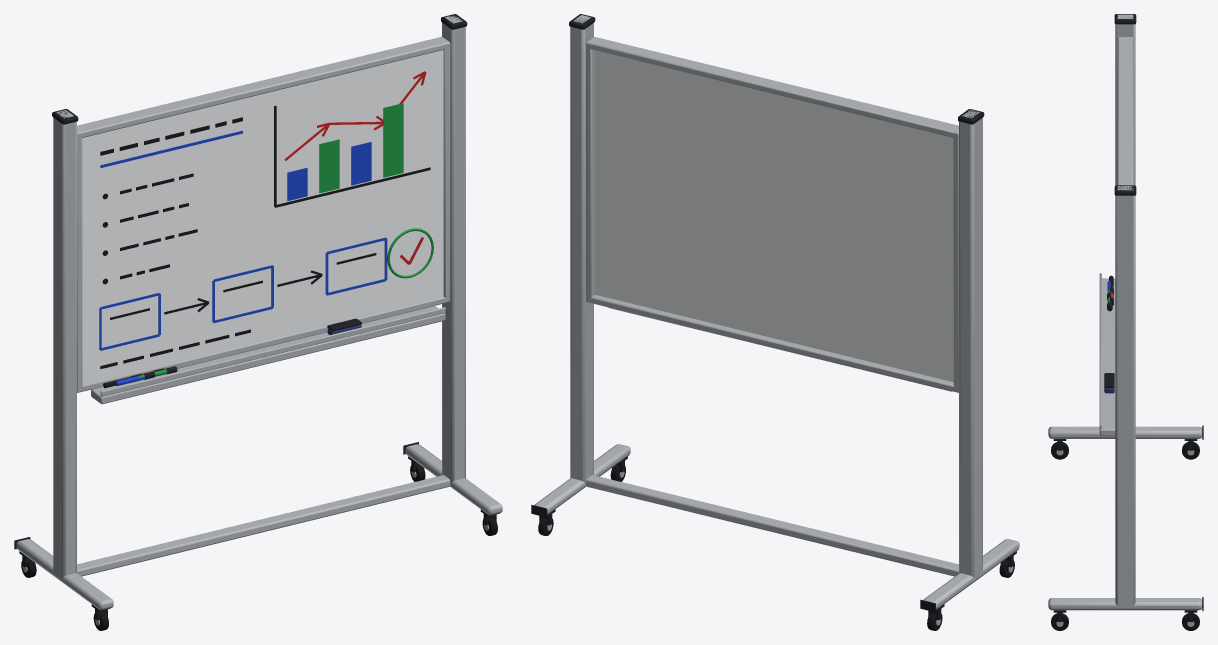
Rendered from whiteboard.glb.
3 views of the same model, side by side, from view 1: azimuth 30°, elevation 25°; view 2: azimuth 150°, elevation 25°; view 3: azimuth 270°, elevation 25° (orthographic). The views are drawn at different scales.
Visible parts, largest first — view 1: whiteboard_wb_surface, whiteboard_wb_alu, whiteboard_ink_blue, whiteboard_ink_black, whiteboard_ink_green, whiteboard_wb_dark, whiteboard_ink_red, whiteboard_wb_rubber; view 2: whiteboard_wb_surface, whiteboard_wb_alu, whiteboard_wb_dark, whiteboard_wb_rubber; view 3: whiteboard_wb_alu, whiteboard_wb_dark, whiteboard_wb_rubber.
Part boxes in pixels (left/top/right/bottom): whiteboard_wb_surface: left=82, top=50, right=443, bottom=384; whiteboard_wb_alu: left=16, top=15, right=502, bottom=625; whiteboard_ink_blue: left=99, top=130, right=387, bottom=385; whiteboard_ink_black: left=100, top=106, right=430, bottom=387; whiteboard_ink_green: left=139, top=103, right=433, bottom=377; whiteboard_wb_dark: left=14, top=14, right=499, bottom=620; whiteboard_ink_red: left=142, top=71, right=426, bottom=374; whiteboard_wb_rubber: left=21, top=465, right=497, bottom=630; whiteboard_wb_surface: left=595, top=50, right=953, bottom=381; whiteboard_wb_alu: left=534, top=15, right=1019, bottom=625; whiteboard_wb_dark: left=531, top=14, right=1016, bottom=620; whiteboard_wb_rubber: left=538, top=465, right=1014, bottom=630; whiteboard_wb_alu: left=1048, top=14, right=1202, bottom=626; whiteboard_wb_dark: left=1053, top=14, right=1203, bottom=621; whiteboard_wb_rubber: left=1051, top=442, right=1199, bottom=630.
Size of the model in its own units: 1.64 by 1.9 by 0.604.
